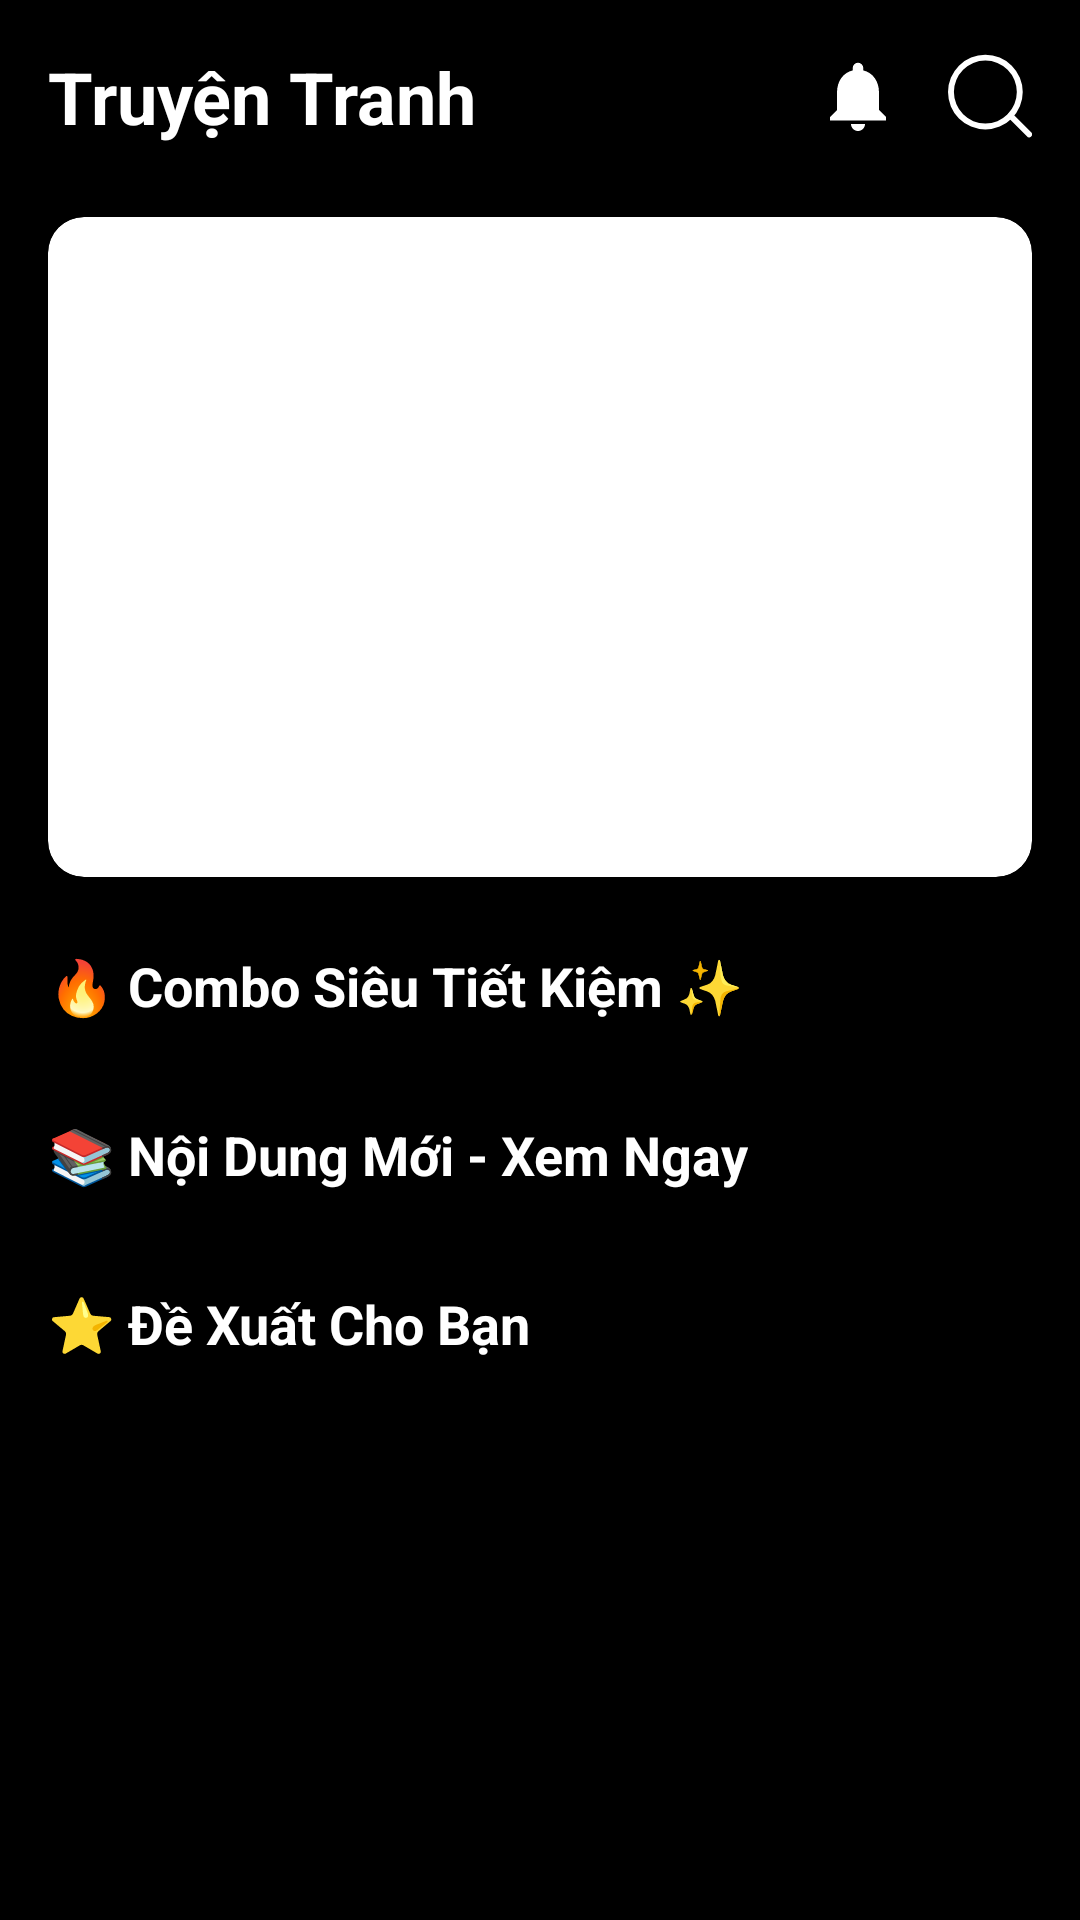

Point at icon controls on the screen. Image size 1080w x 1920h, points as (x,y).
notification: (858,96)
search: (990,96)
